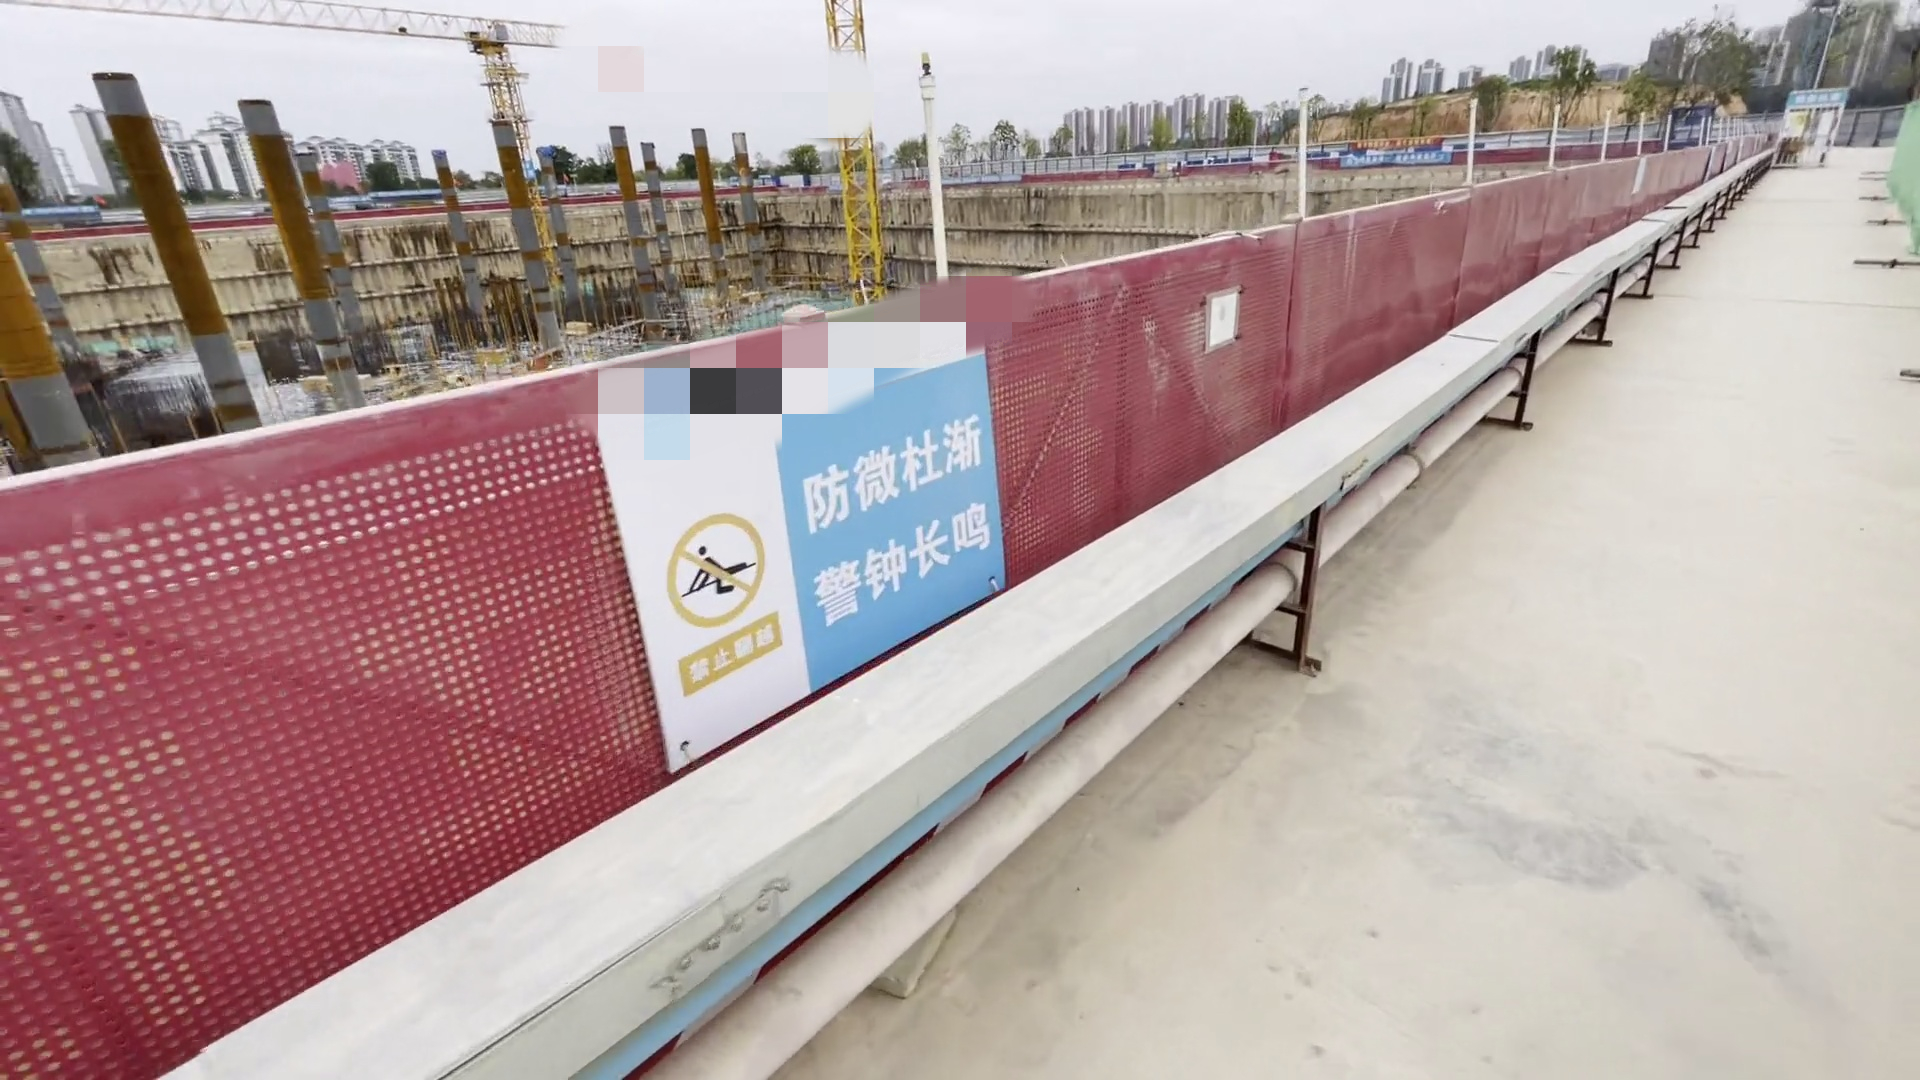fence: (1, 138, 1751, 1080)
slogan: (807, 404, 1000, 636)
